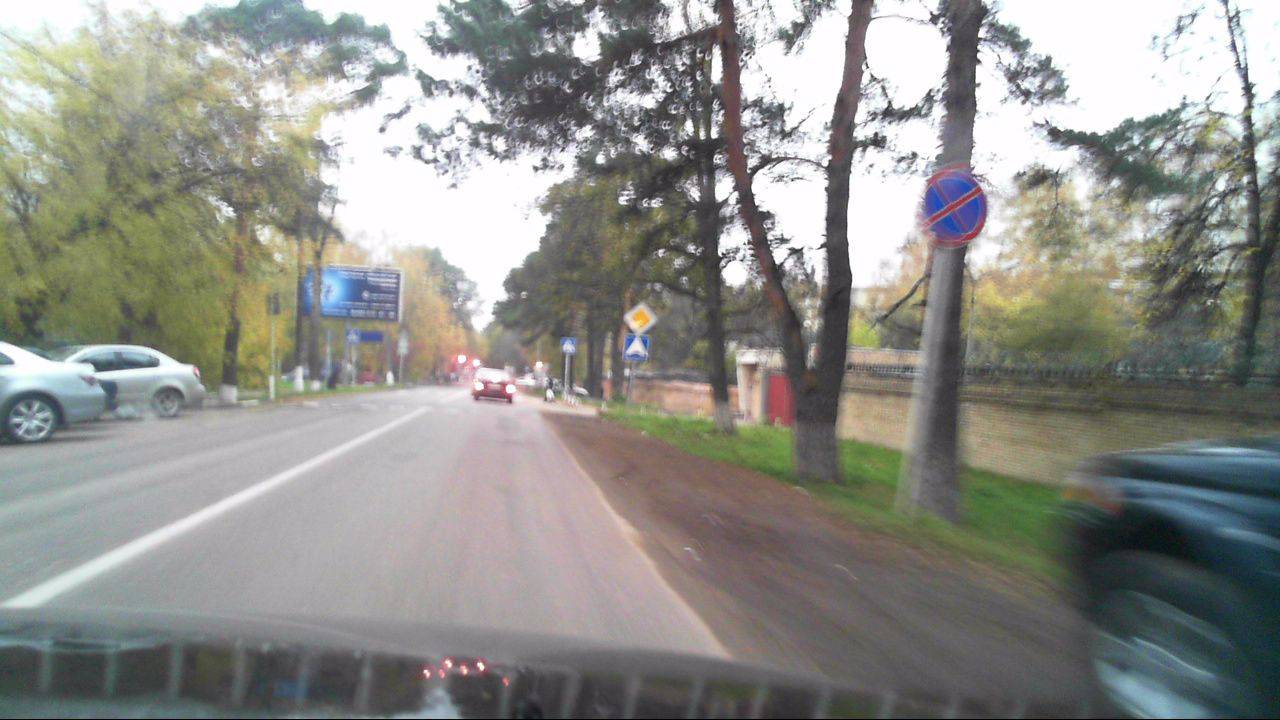No Parking: (923, 168, 986, 245)
